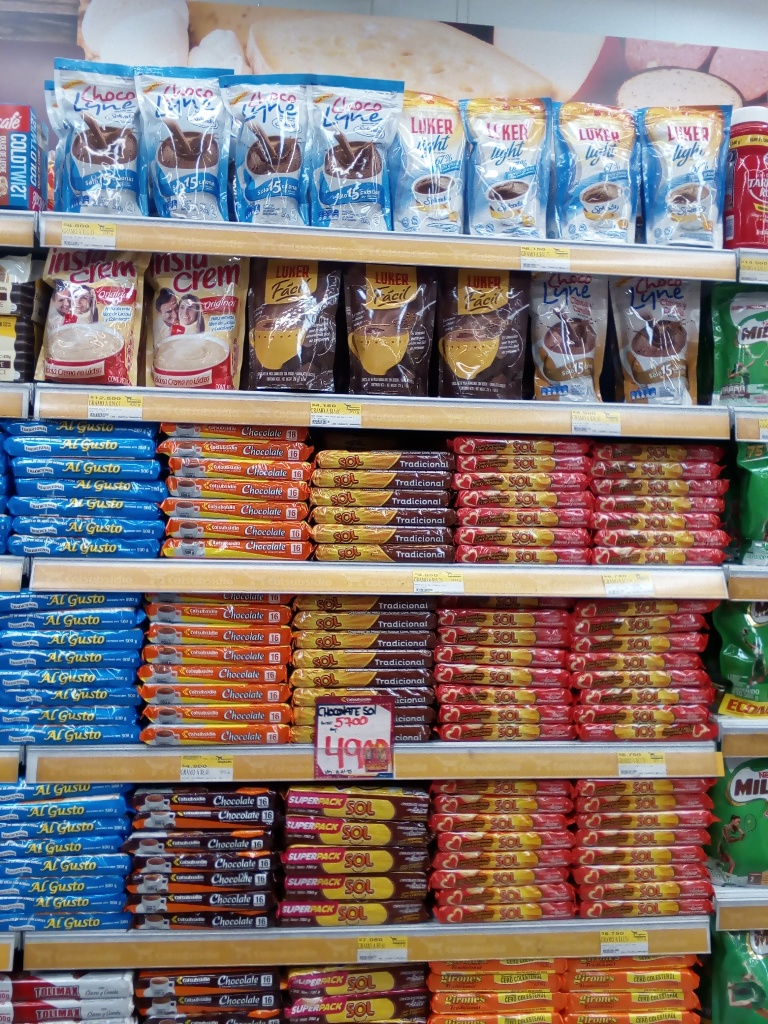COL0170205DYP20000: (708, 282, 766, 407)
